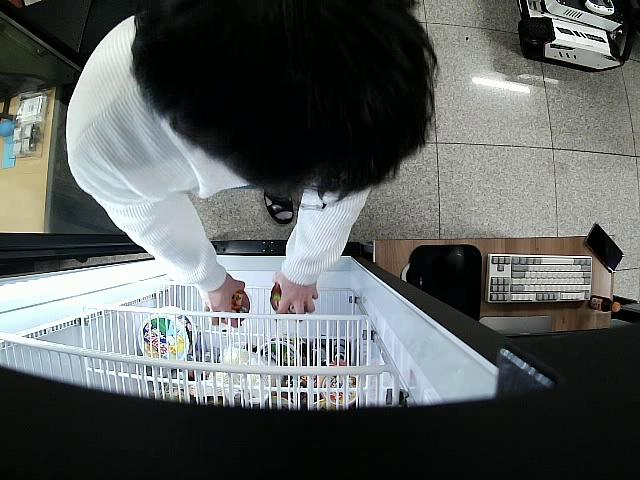00_hand: (272, 271, 318, 323), (201, 275, 245, 329)
06_nuguri_S: (220, 288, 250, 325), (270, 282, 295, 313)
